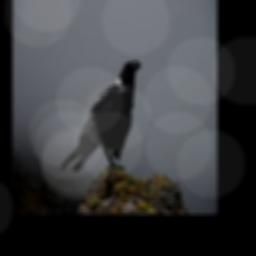Crow: (58, 53, 141, 176)
